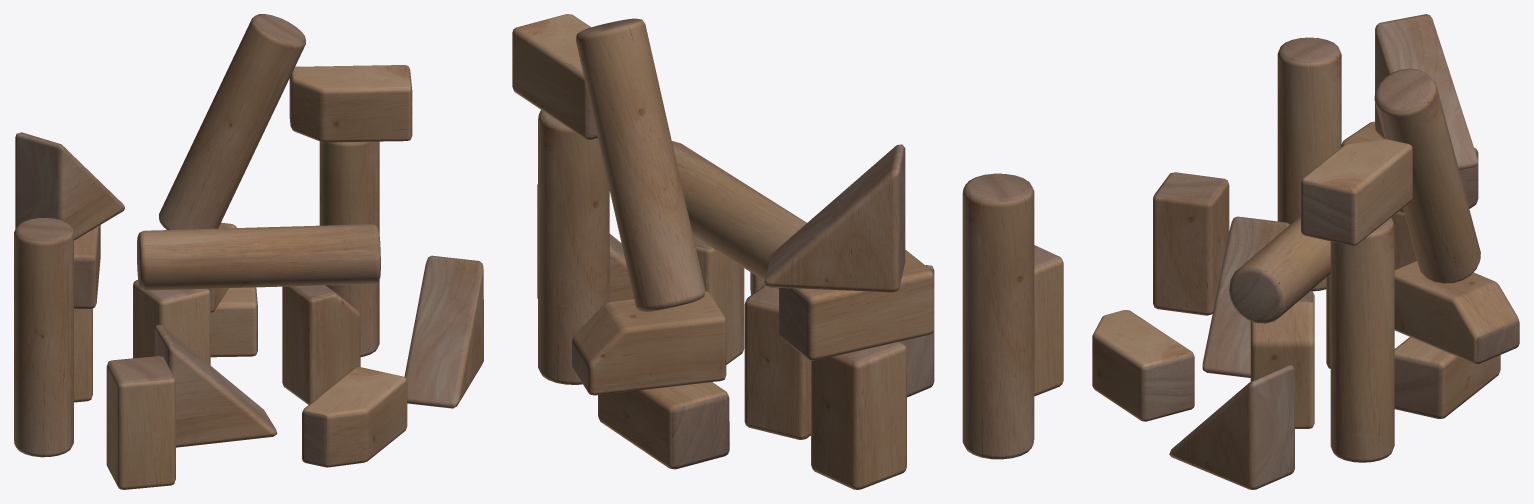
Rendered from intermediateblocks.fbx.
The picture shows the model from 3 angles, left to right: view 1: azimuth 30°, elevation 25°; view 2: azimuth 150°, elevation 25°; view 3: azimuth 270°, elevation 25°; orthographic projection. The views are drawn at different scales.
Parts seen in each view (by area): view 1: cylinder_2, cylinder_1, cylinder_4, wedge_2, bevel_block_3, block_2, bevel_block_2, bevel_block_1, wedge_1, wedge_3, cylinder_3, block_1 (+3 smaller); view 2: cylinder_4, cylinder_1, cylinder_3, wedge_3, block_3, bevel_block_4, block_4, block_5, cylinder_2, block_1, bevel_block_3, block_2 (+3 smaller); view 3: cylinder_3, cylinder_4, block_2, wedge_2, cylinder_1, bevel_block_3, bevel_block_4, bevel_block_2, cylinder_2, wedge_3, block_5, wedge_1 (+4 smaller).
Boxes of the visible parts, x1,y1,x2,y2 form: cylinder_2: (137,224,380,290); cylinder_1: (14,217,73,457); cylinder_4: (159,14,305,229); wedge_2: (404,255,483,408); bevel_block_3: (289,65,412,142); block_2: (106,356,175,489); bevel_block_2: (302,367,407,467); bevel_block_1: (282,285,360,404); wedge_1: (154,325,277,447); wedge_3: (15,132,124,240); cylinder_3: (319,141,379,356); block_1: (133,280,210,365); cylinder_4: (576,18,705,311); cylinder_1: (962,173,1034,459); cylinder_3: (538,110,609,384); wedge_3: (764,144,905,292); block_3: (811,341,906,489); bevel_block_4: (572,291,726,395); block_4: (779,250,934,360); block_5: (598,382,729,469); cylinder_2: (672,141,806,289); block_1: (744,285,810,439); bevel_block_3: (512,14,597,139); block_2: (1034,245,1063,396); cylinder_3: (1330,217,1394,462); cylinder_4: (1374,68,1480,283); block_2: (1153,172,1229,315); wedge_2: (1169,365,1294,489); cylinder_1: (1277,37,1341,291); bevel_block_3: (1301,139,1412,245); bevel_block_4: (1394,260,1519,363); bevel_block_2: (1092,310,1194,421); cylinder_2: (1229,215,1392,323); wedge_3: (1375,14,1478,170); block_5: (1394,337,1500,418); wedge_1: (1202,216,1289,377).
Size of the model in its own units: 29.39 by 20.89 by 23.38.
Materials: 1 (1 with a texture image).
